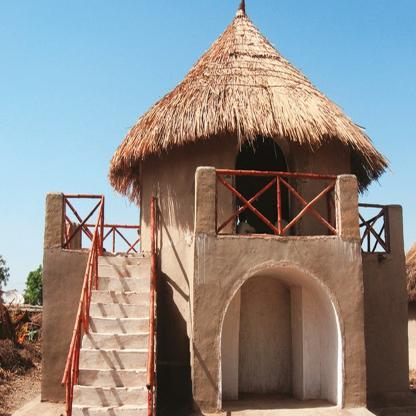Balcony: (46, 193, 140, 252), (358, 203, 403, 252)
Building Outline: (40, 0, 409, 416)
Door Hole: (236, 135, 288, 236)
Facade: (140, 122, 352, 412)
Floor Slab: (43, 252, 405, 264)
Roof: (106, 0, 392, 209)
Top Floor: (140, 122, 352, 252)
